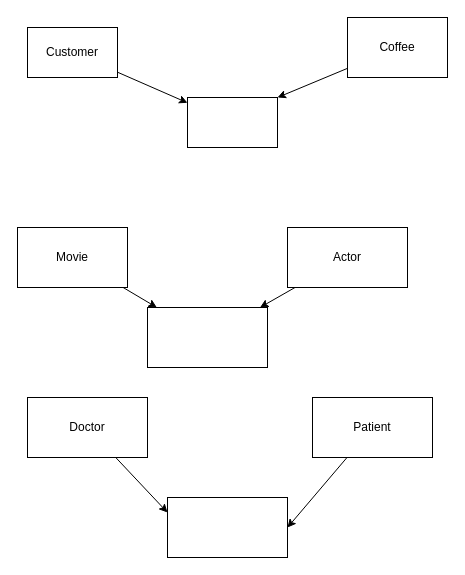
The diagram is 465 pixels wide and 575 high, and some of its shapes have lost their labels. The centre of each missing label's shape, as x and y in pixels:
"Appointment" goes at point (227, 527).
"Order" goes at point (232, 122).
"Role" goes at point (207, 337).
